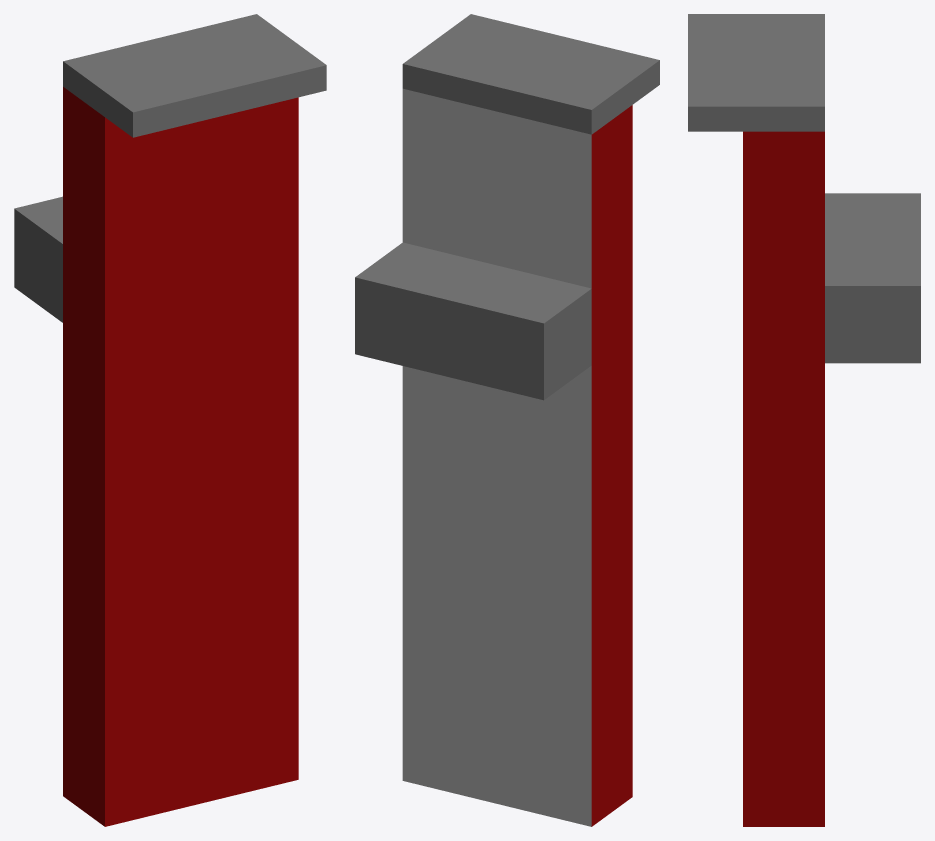
Rendered from AanrechtModularPCG.fbx.
The picture shows the model from 3 angles, left to right: view 1: azimuth 30°, elevation 25°; view 2: azimuth 150°, elevation 25°; view 3: azimuth 270°, elevation 25°; orthographic projection. The views are drawn at different scales.
Visible parts, largest first — view 1: AanrechtModular; view 2: AanrechtModular; view 3: AanrechtModular.
Part boxes in pixels (<box>): AanrechtModular: <box>14,14,326,826</box>; AanrechtModular: <box>355,14,659,826</box>; AanrechtModular: <box>688,14,920,826</box>.
Size of the model in its own units: 2 by 7.25 by 2.12.
